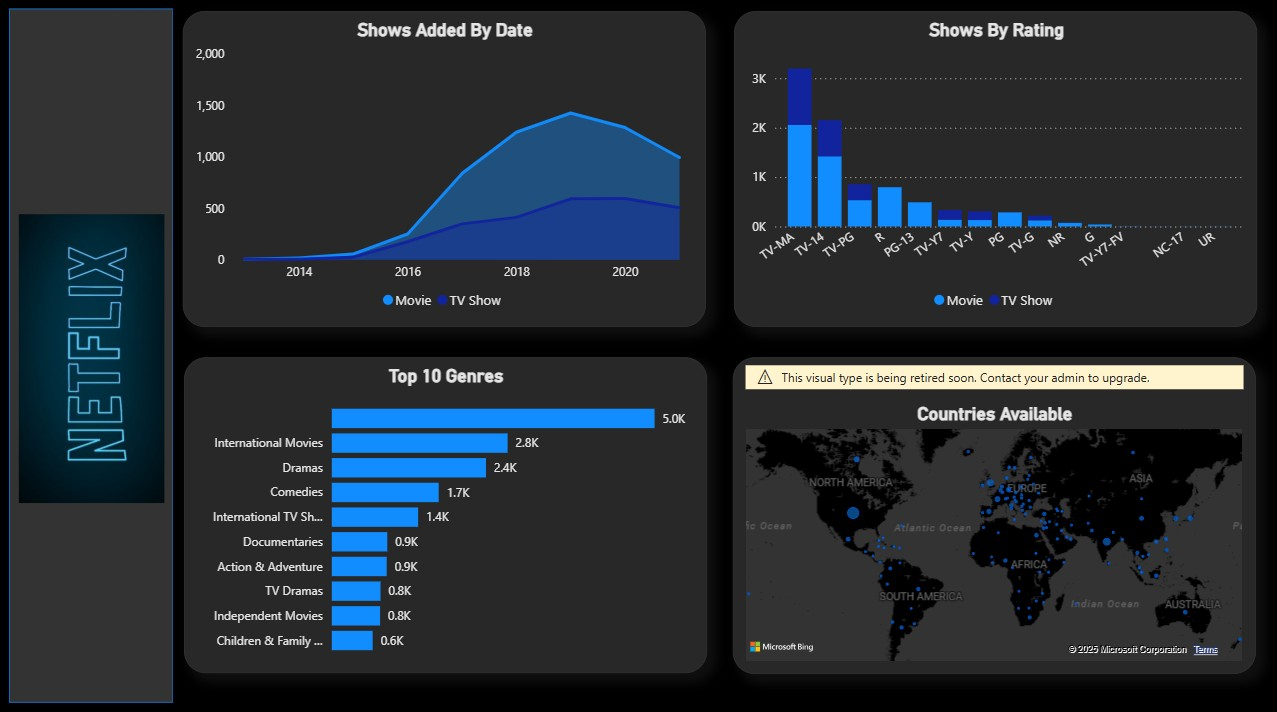

The page's visual inventory and layout, read from the dashboard file:
{"tool":"powerbi","page":{"name":"Overview","canvas":[1280,720],"ordinal":0},"visuals":[{"type":"shape","box":[10,12.9,164.3,694.3],"z":0},{"type":"lineChart","title":"Shows Added By Date","fields":{"Y":["CountNonNull(netflix netflixtitles.show_id)"],"Category":["netflix netflixtitles.date_added.Variation.Date Hierarchy.Year"],"Series":["netflix netflixtitles.type"]},"box":[183.6,14.8,523,316.4],"z":1000},{"type":"columnChart","title":"Shows By Rating","fields":{"Category":["netflix netflixtitles.rating"],"Y":["CountNonNull(netflix netflixtitles.show_id)"],"Series":["netflix netflixtitles.type"]},"box":[734.6,14.8,523.5,316],"z":2000},{"type":"clusteredBarChart","title":"Top 10 Genres","fields":{"Category":["netflix netflix_listed_in.category"],"Y":["Count(netflix netflix_listed_in.show_id)"]},"box":[185.2,360.7,523,316.4],"z":3000},{"type":"map","title":"Countries Available","fields":{"Category":["netflix netflix_country.country"],"Size":["Count(netflix netflix_country.show_id)","select"]},"box":[734.3,361.4,522.9,317.1],"z":4000},{"type":"image","box":[15,46.2,155,632.5],"z":4001}]}

Visuals, with their boxes in screenshot pixels (x1, y1, x2, y2), scaled from the page's 1280x720 canvas onto the 1277x712 screenshot:
shape: <bbox>10, 13, 174, 699</bbox>
"Shows Added By Date" lineChart: <bbox>183, 15, 705, 328</bbox>
"Shows By Rating" columnChart: <bbox>733, 15, 1255, 327</bbox>
"Top 10 Genres" clusteredBarChart: <bbox>185, 357, 707, 670</bbox>
"Countries Available" map: <bbox>733, 357, 1254, 671</bbox>
image: <bbox>15, 46, 170, 671</bbox>
